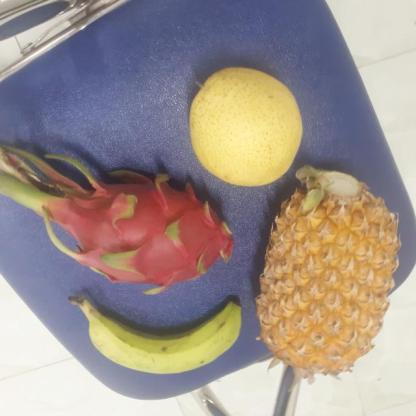banana: (80, 290, 251, 371)
pear: (188, 66, 308, 184)
pineapple: (258, 170, 398, 368)
pitaya: (52, 168, 245, 292)
